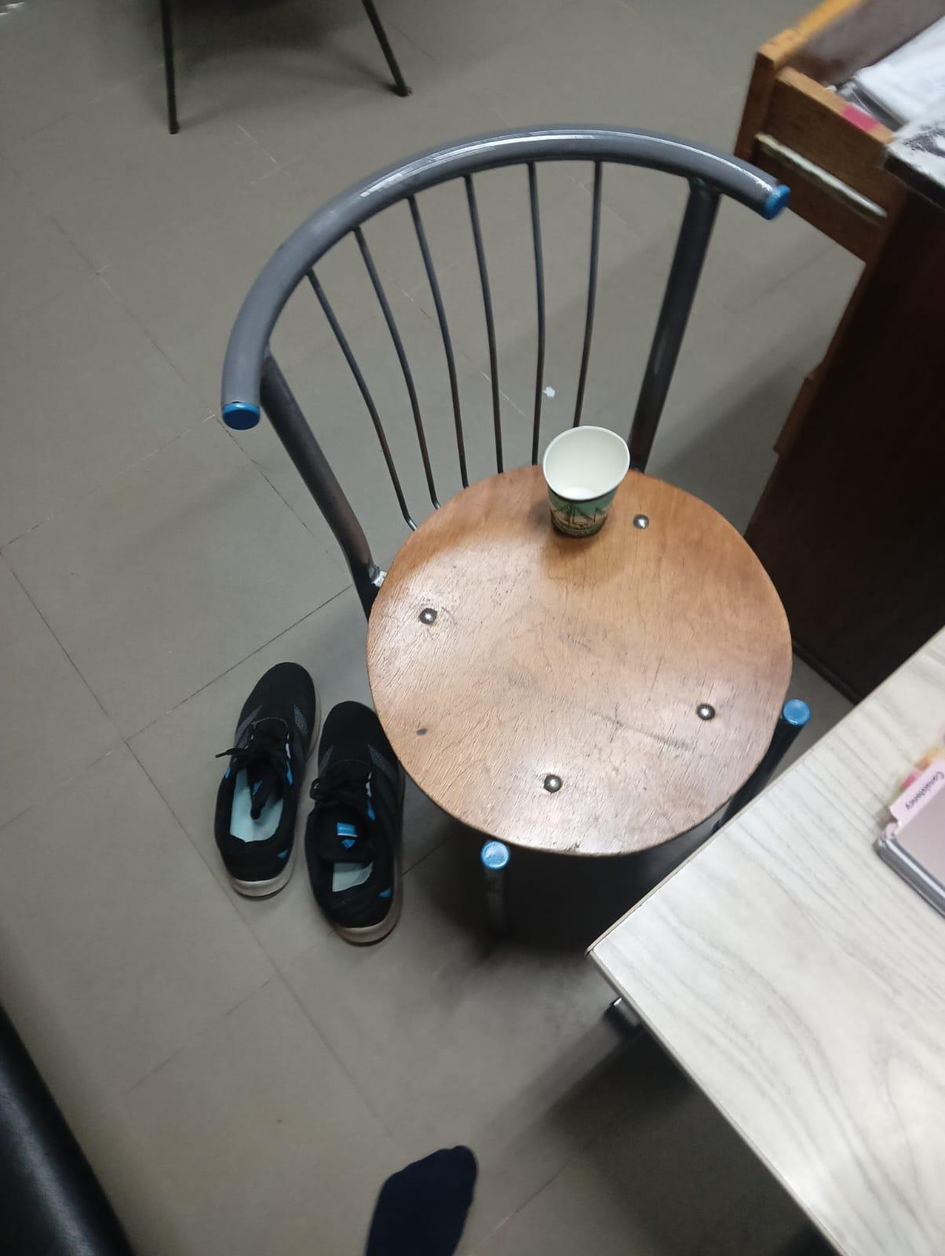cup: (542, 426, 629, 537)
